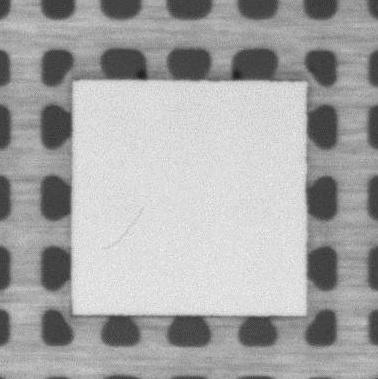DIE_CRACK: (101, 205, 145, 249)
